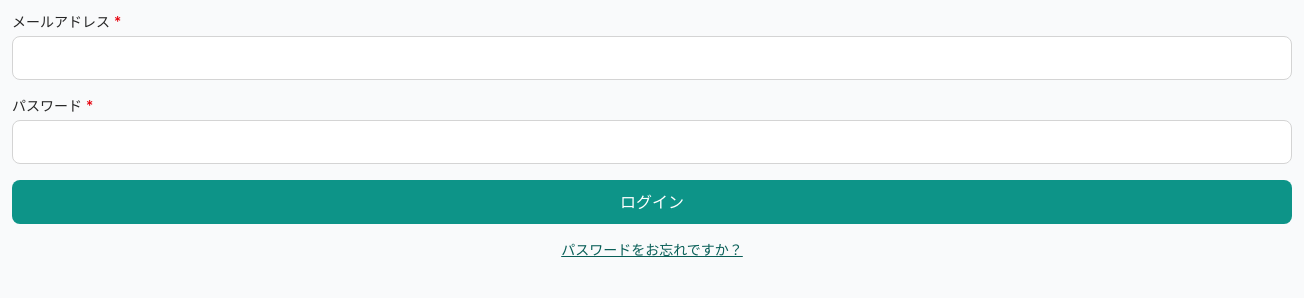
Test case: LoginForm › メールアドレスの形式が不正ならエラー
Type "not-an-email" into the field labelled "メールアドレス" at (652, 58), box x1=12 y1=36 x2=1292 y2=80
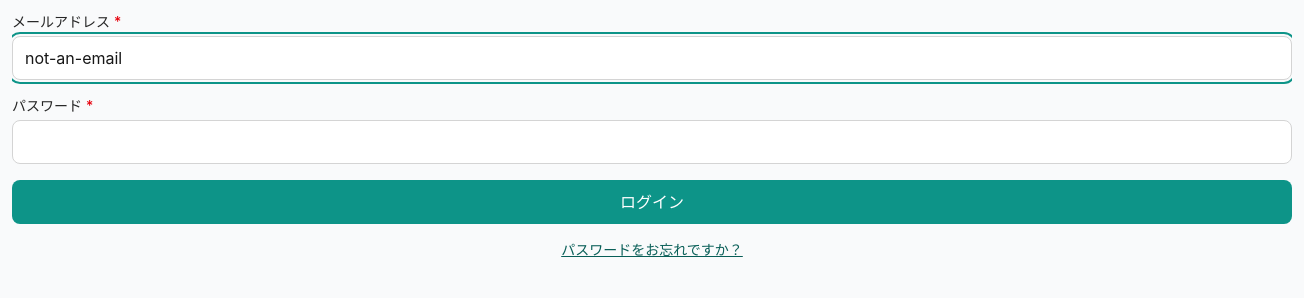
Type "password-12345" into the password field labelled "パスワード" at (652, 142), box x1=12 y1=120 x2=1292 y2=164
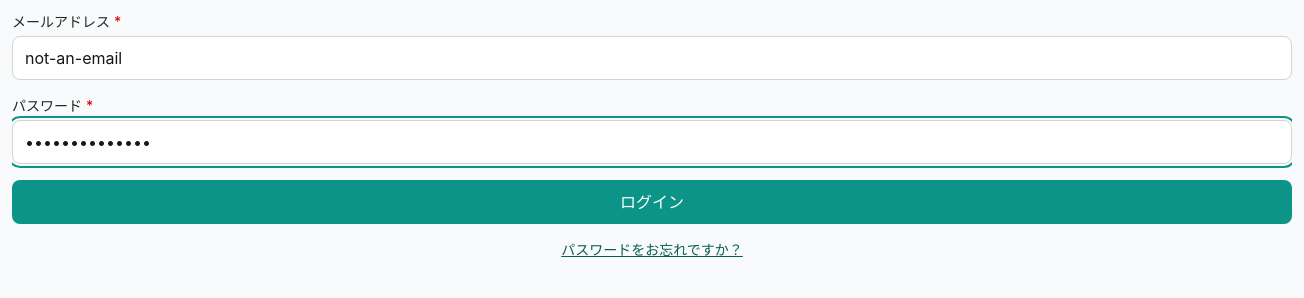
Click the button "ログイン" at (652, 202), box x1=12 y1=180 x2=1292 y2=224
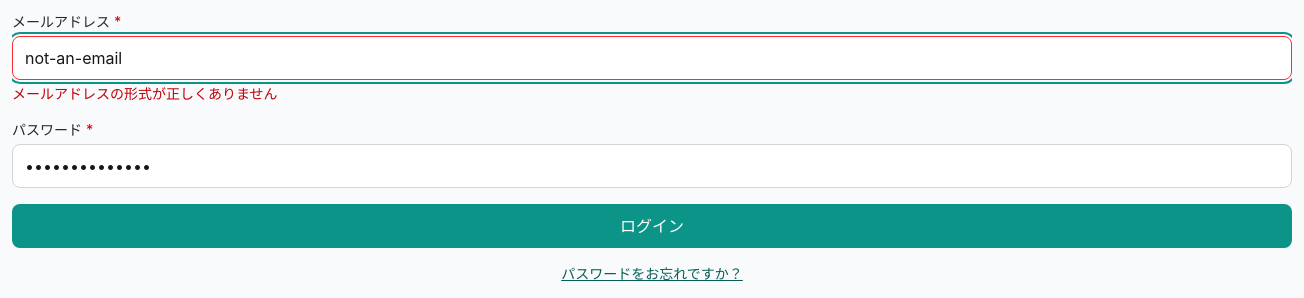
Result: the text "メールアドレスの形式が正しくありません" is shown at x1=12 y1=85 x2=278 y2=102
